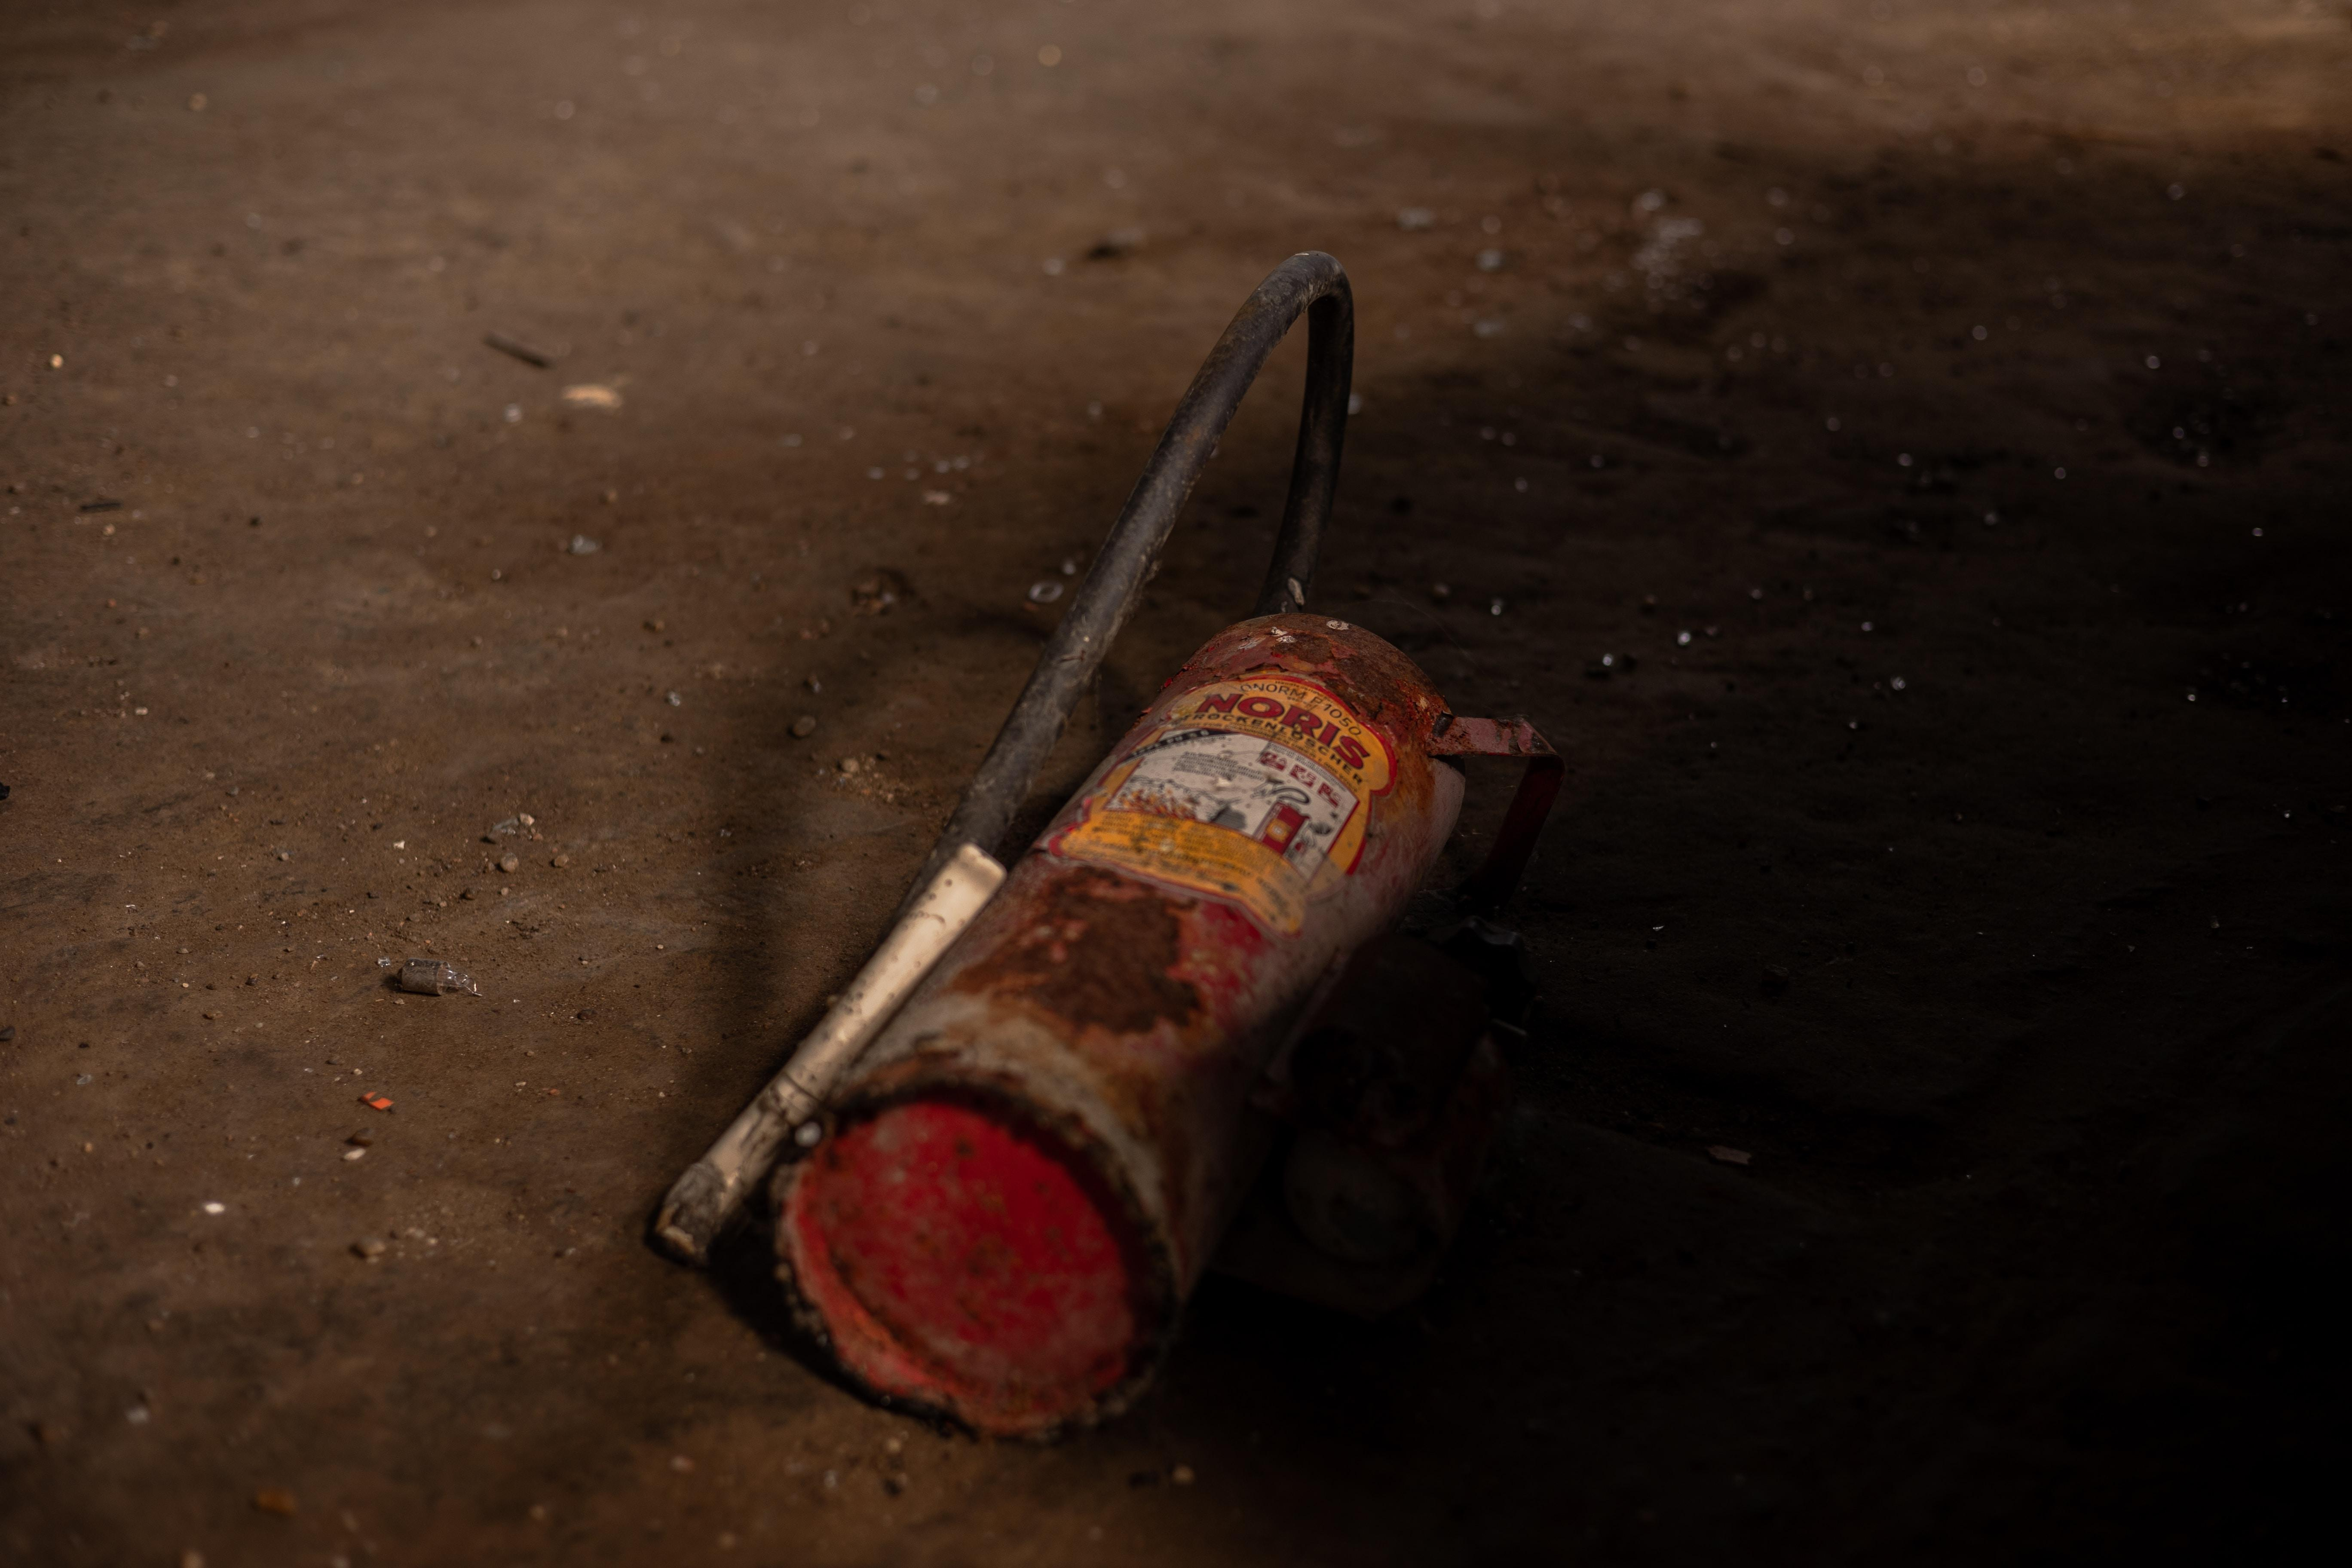Fire Extinguisher: (700, 206, 1573, 1491)
